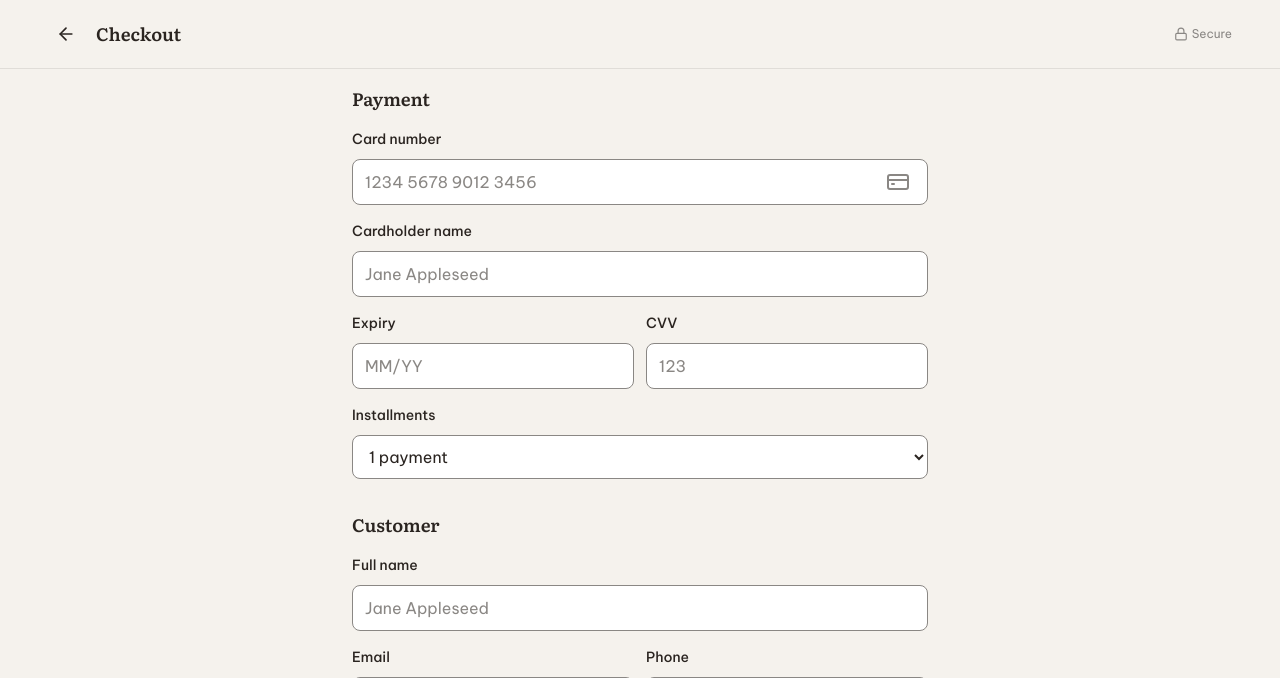
CheckoutDetailsPage › shows the Visa mark once a visa-prefixed number is entered
Type "4242424242424242" into the field labelled "Card number" at (640, 182), box [352, 159, 928, 205]
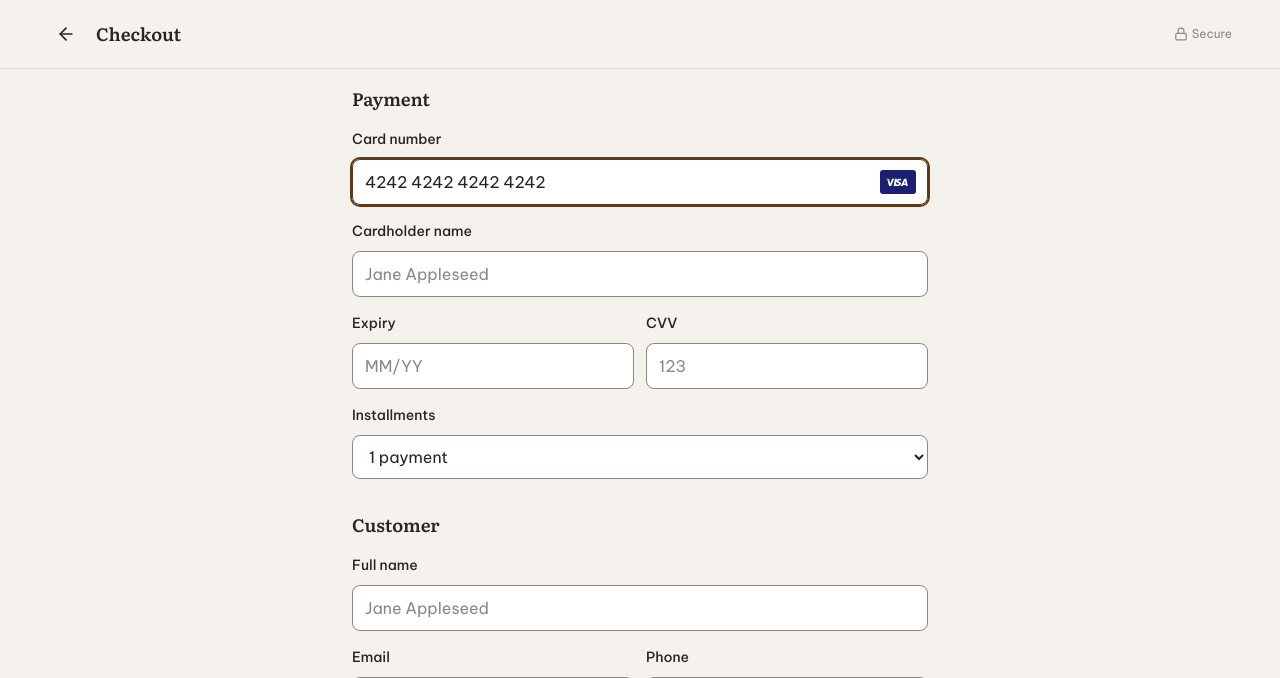
Check: the picture named "Visa" is shown, box [880, 170, 916, 194]
